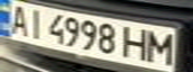4: (42, 11, 66, 45)
8: (96, 20, 121, 56)
9: (78, 18, 100, 52), (60, 16, 81, 48)
A: (3, 2, 33, 36)
H: (121, 25, 154, 61)
I: (21, 7, 48, 39)
M: (145, 29, 181, 64)
